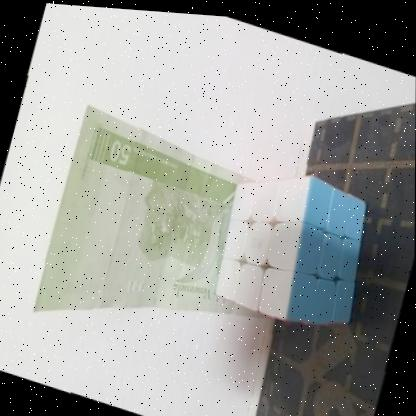fifty-back-vef: (31, 97, 310, 384)
